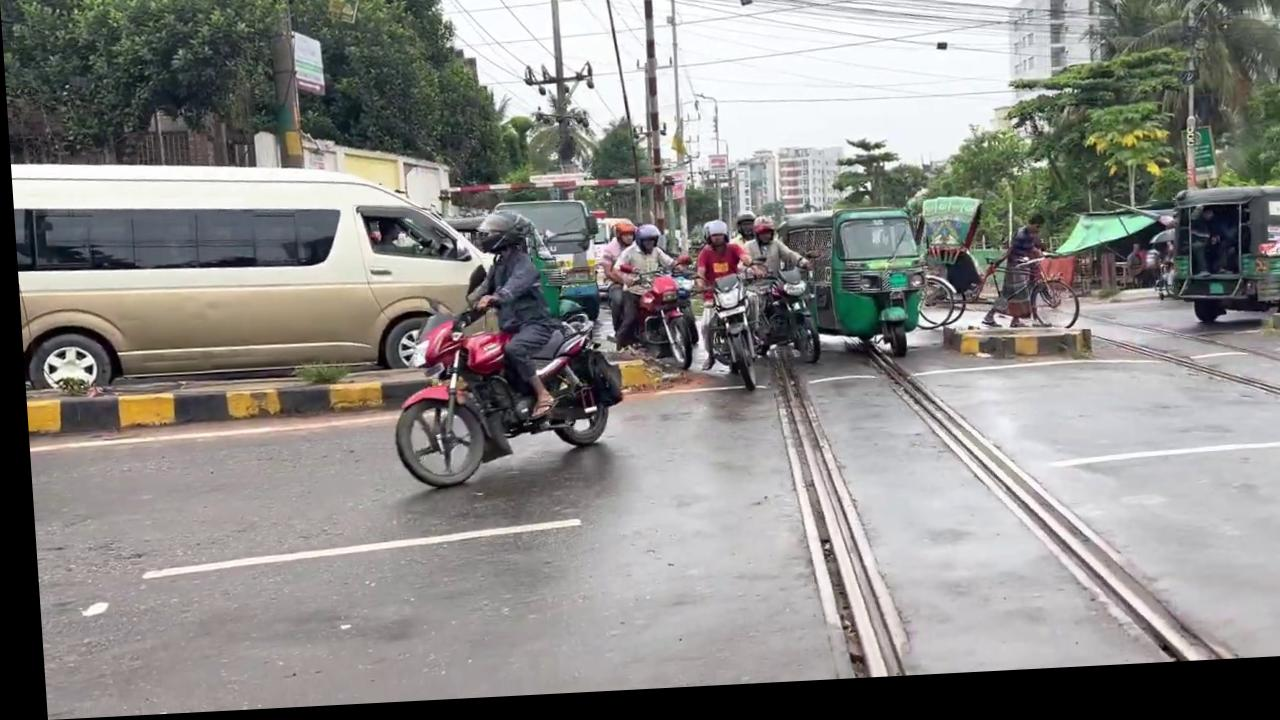Curb: (381, 294, 622, 493), (687, 276, 756, 401)
Fence: (458, 215, 561, 427), (970, 225, 1047, 339)
Garbage: (635, 0, 665, 250)
Motorcycle: (759, 328, 1222, 688)
Railroad-crossing: (825, 144, 899, 218)
Rickshaw: (768, 212, 929, 371), (488, 201, 599, 333), (908, 203, 1005, 315)
